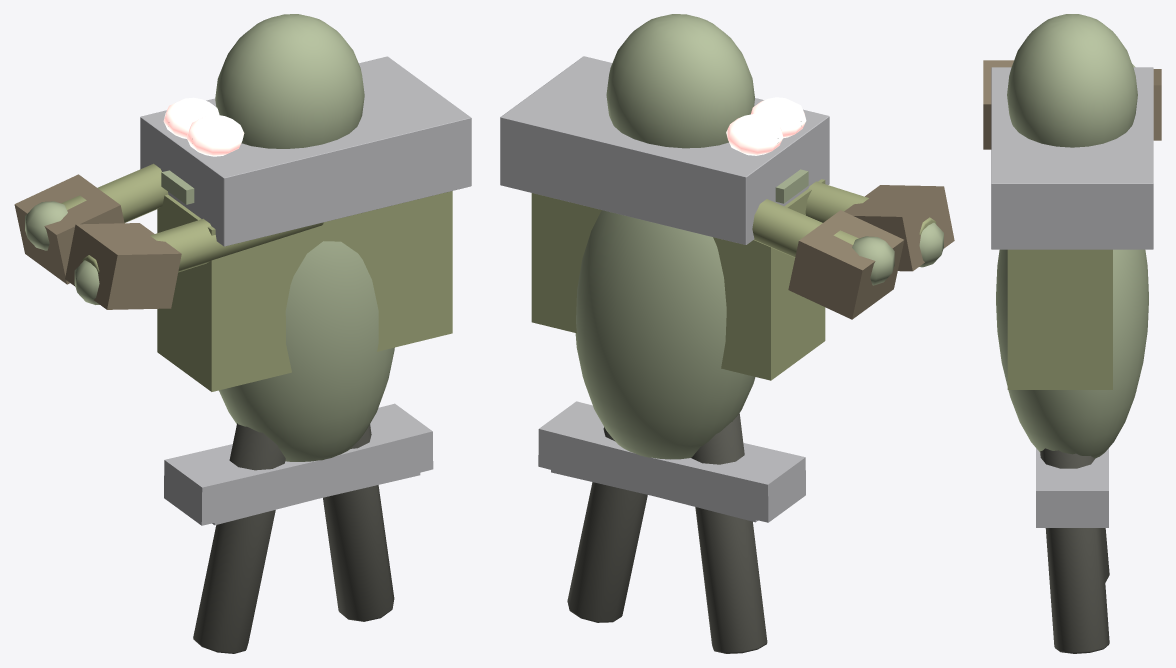
File: brute.glb
The picture shows the model from 3 angles, left to right: view 1: azimuth 30°, elevation 25°; view 2: azimuth 150°, elevation 25°; view 3: azimuth 270°, elevation 25°; orthographic projection. The views are drawn at different scales.
Parts seen in each view (by area): view 1: chest, shoulders, torso, head, plate_-0.17, leg, leg.001, gauntlet_1, plate_0.17, gauntlet_0, arm.001, arm (+5 smaller); view 2: torso, shoulders, chest, head, plate_-0.17, leg, plate_0.17, leg.001, gauntlet_0, gauntlet_1, arm, eye (+5 smaller); view 3: shoulders, chest, head, torso, leg.001, plate_0.17, gauntlet_1, gauntlet_0.
Part boxes in pixels (<box>): chest: <box>157,191,452,391</box>; shoulders: <box>140,56,471,246</box>; torso: <box>219,241,394,461</box>; head: <box>215,14,364,148</box>; plate_-0.17: <box>164,437,420,525</box>; leg: <box>193,423,285,653</box>; leg.001: <box>323,424,394,621</box>; gauntlet_1: <box>65,223,181,309</box>; plate_0.17: <box>212,403,433,525</box>; gauntlet_0: <box>14,174,124,284</box>; arm.001: <box>82,218,323,272</box>; arm: <box>61,163,168,222</box>; torso: <box>575,210,755,459</box>; shoulders: <box>500,56,829,244</box>; chest: <box>531,179,825,380</box>; head: <box>606,14,754,148</box>; plate_-0.17: <box>550,434,805,522</box>; leg: <box>691,413,767,653</box>; plate_0.17: <box>538,401,757,522</box>; leg.001: <box>567,427,647,622</box>; gauntlet_0: <box>788,210,904,319</box>; gauntlet_1: <box>844,185,954,271</box>; arm: <box>752,199,858,257</box>; eye: <box>726,114,783,155</box>; shoulders: <box>991,67,1153,249</box>; chest: <box>1007,249,1112,389</box>; head: <box>1007,14,1137,147</box>; torso: <box>996,249,1148,458</box>; leg.001: <box>1040,448,1109,653</box>; plate_0.17: <box>1036,448,1108,527</box>; gauntlet_1: <box>983,60,1013,149</box>; gauntlet_0: <box>1153,69,1161,140</box>.
Bounding box in the file's own units: 1.04 × 1.61 × 0.44.
